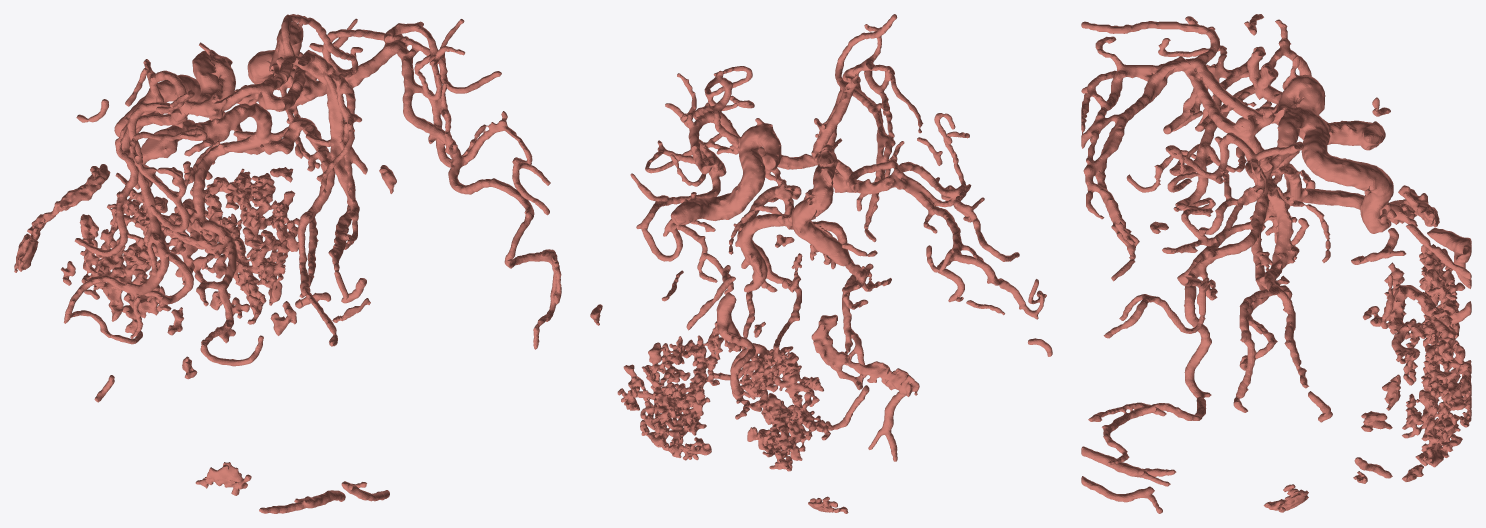
The model's file is vessel_tree.glb.
The picture shows the model from 3 angles, left to right: view 1: azimuth 30°, elevation 25°; view 2: azimuth 150°, elevation 25°; view 3: azimuth 270°, elevation 25°; orthographic projection. The views are drawn at different scales.
Visible parts, largest first — view 1: world; view 2: world; view 3: world.
Boxes of the visible parts, x1,y1,x2,y2 form: world: (14,14,561,513); world: (590,14,1052,513); world: (1081,14,1471,513).
Size of the model in its own units: 137 by 141 by 100.
